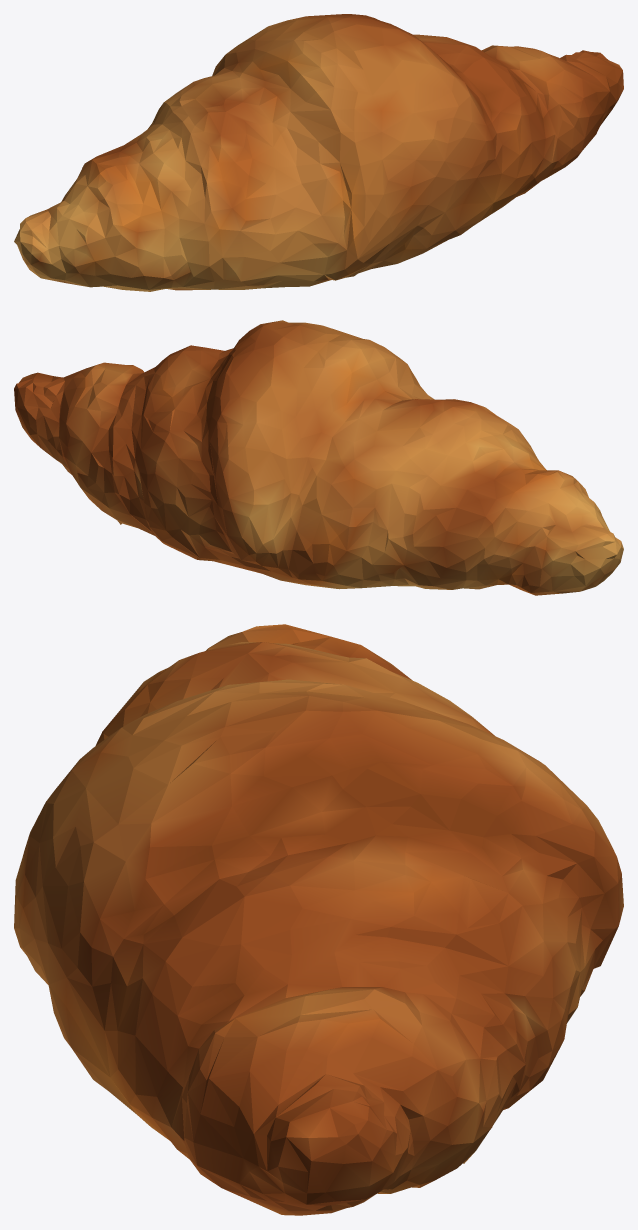
File: croissant.glb
3 renders of one model, top to bottom at view 1: azimuth 30°, elevation 25°; view 2: azimuth 150°, elevation 25°; view 3: azimuth 270°, elevation 25°, orthographic. The views are drawn at different scales.
Parts seen in each view (by area): view 1: geometry_0; view 2: geometry_0; view 3: geometry_0.
Boxes of the visible parts, x1,y1,x2,y2 form: geometry_0: [14, 14, 623, 291]; geometry_0: [14, 320, 623, 595]; geometry_0: [14, 624, 623, 1215].
Bounding box in the file's own units: 1.12 × 0.3468 × 0.5347.
